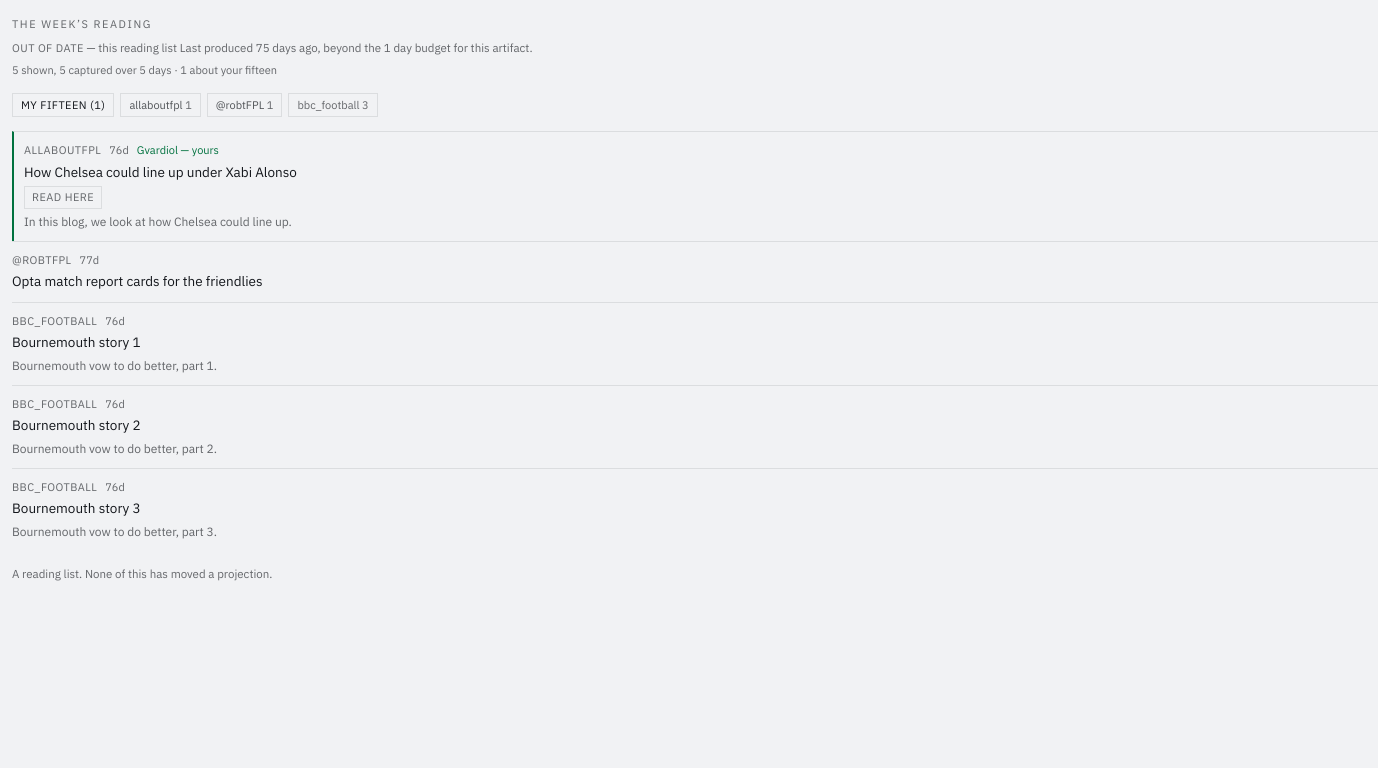
Test: reading the article in the app › renders the paragraphs the route returned
This screenshot has width=1378, height=768.
Click the button with test id "news-read".
click(63, 197)  # box [24,186,102,209]
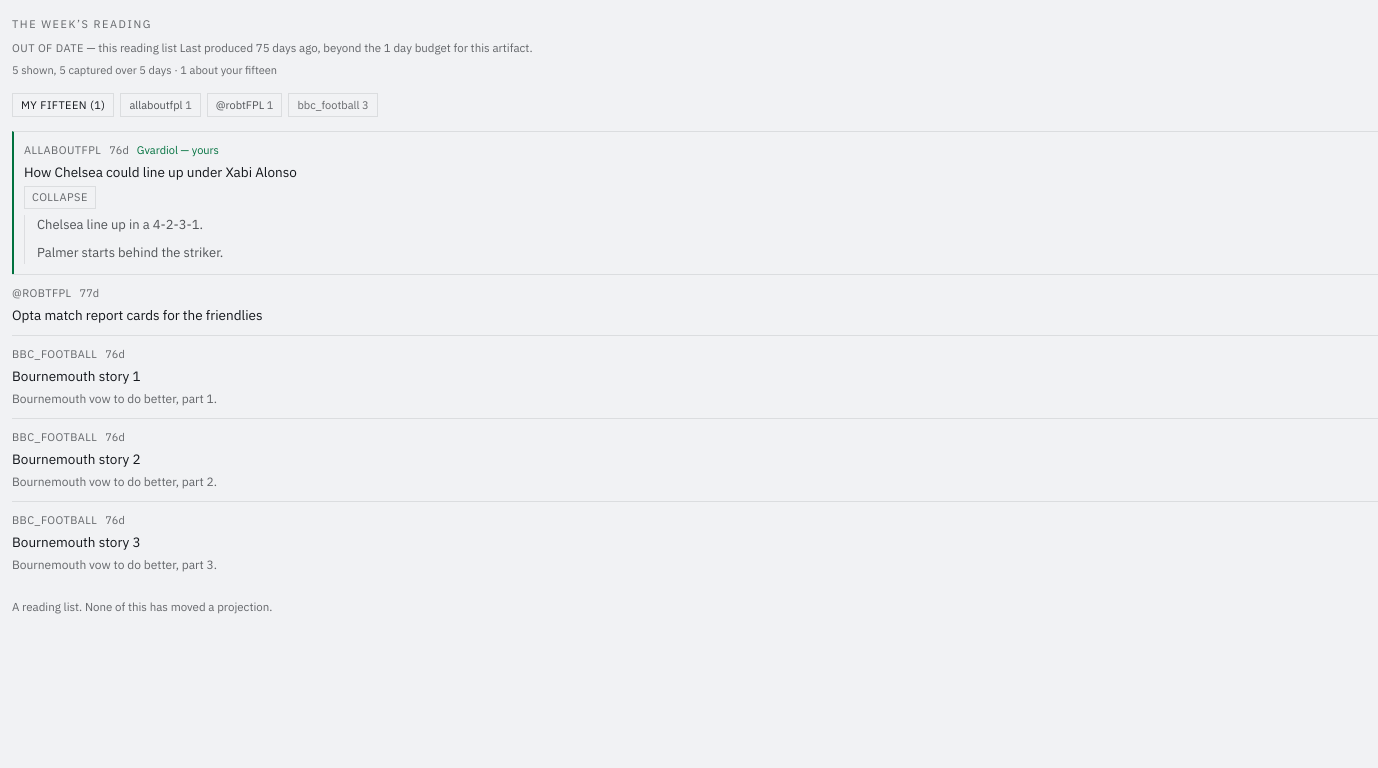
Expected: the text "Palmer starts behind the striker." is shown, [37,244,223,261]
